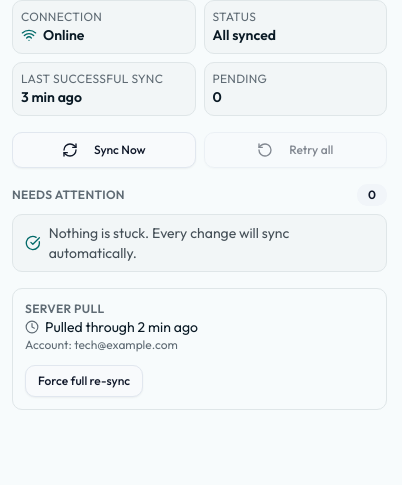
Test: SyncHealthPanel › asks for confirmation before forcing a full re-sync, then resets the watermark and syncs
The image size is (402, 485).
Click the button "Force full re-sync" at (84, 381), box left=25, top=365, right=143, bottom=397
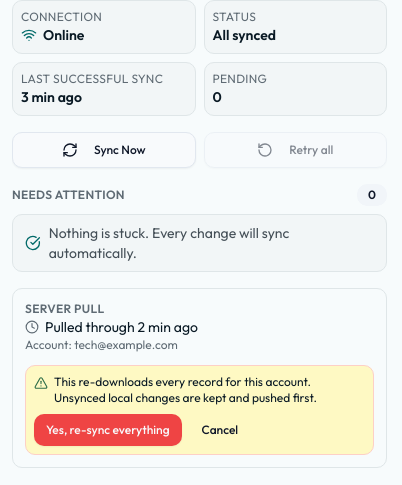
Now the text "This re-downloads every record for this account" is shown, box left=54, top=374, right=317, bottom=405
Click the button "Cancel" at (220, 430), box left=190, top=414, right=250, bottom=446
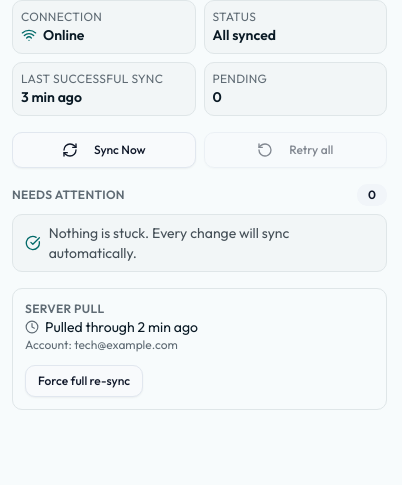
Now the text "This re-downloads every record" is gone
Click the button "Force full re-sync" at (84, 381), box left=25, top=365, right=143, bottom=397
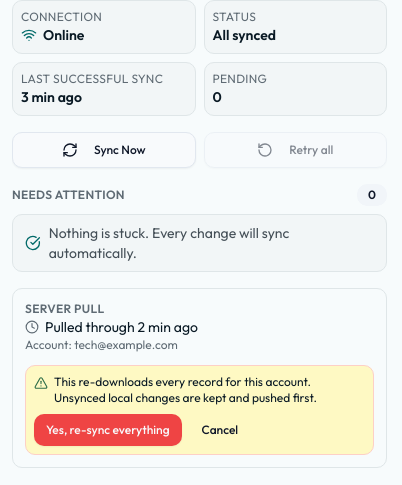
Click the button "Yes, re-sync everything" at (108, 430), box left=34, top=414, right=182, bottom=446
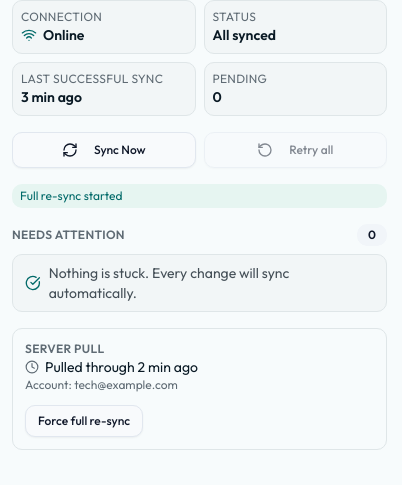
Now the text "Full re-sync started" is shown, box left=12, top=184, right=387, bottom=208
